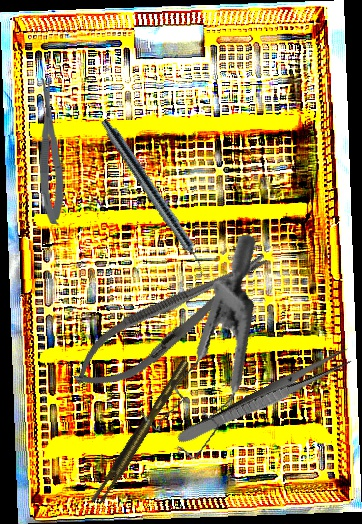Dressing Forceps: (174, 345, 356, 451)
Handpiece: (95, 116, 213, 279)
Micro Scissor: (36, 77, 66, 225)
Needle Holder: (61, 235, 282, 406)
Speculum: (109, 233, 298, 468)
Tissue Forceps: (86, 359, 197, 507)
